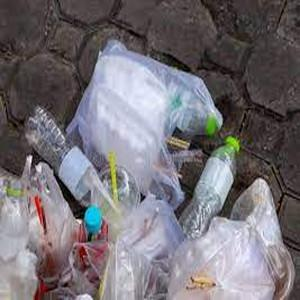Plastic: (26, 105, 97, 205), (180, 135, 240, 238)
